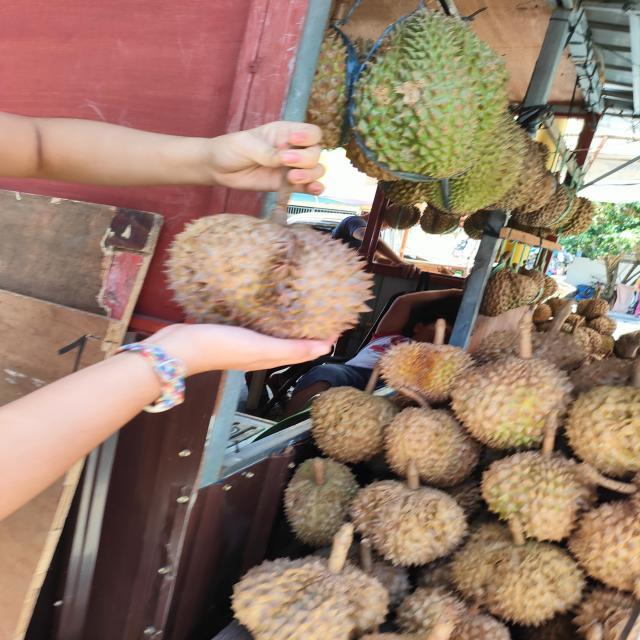mature: (164, 212, 377, 342)
